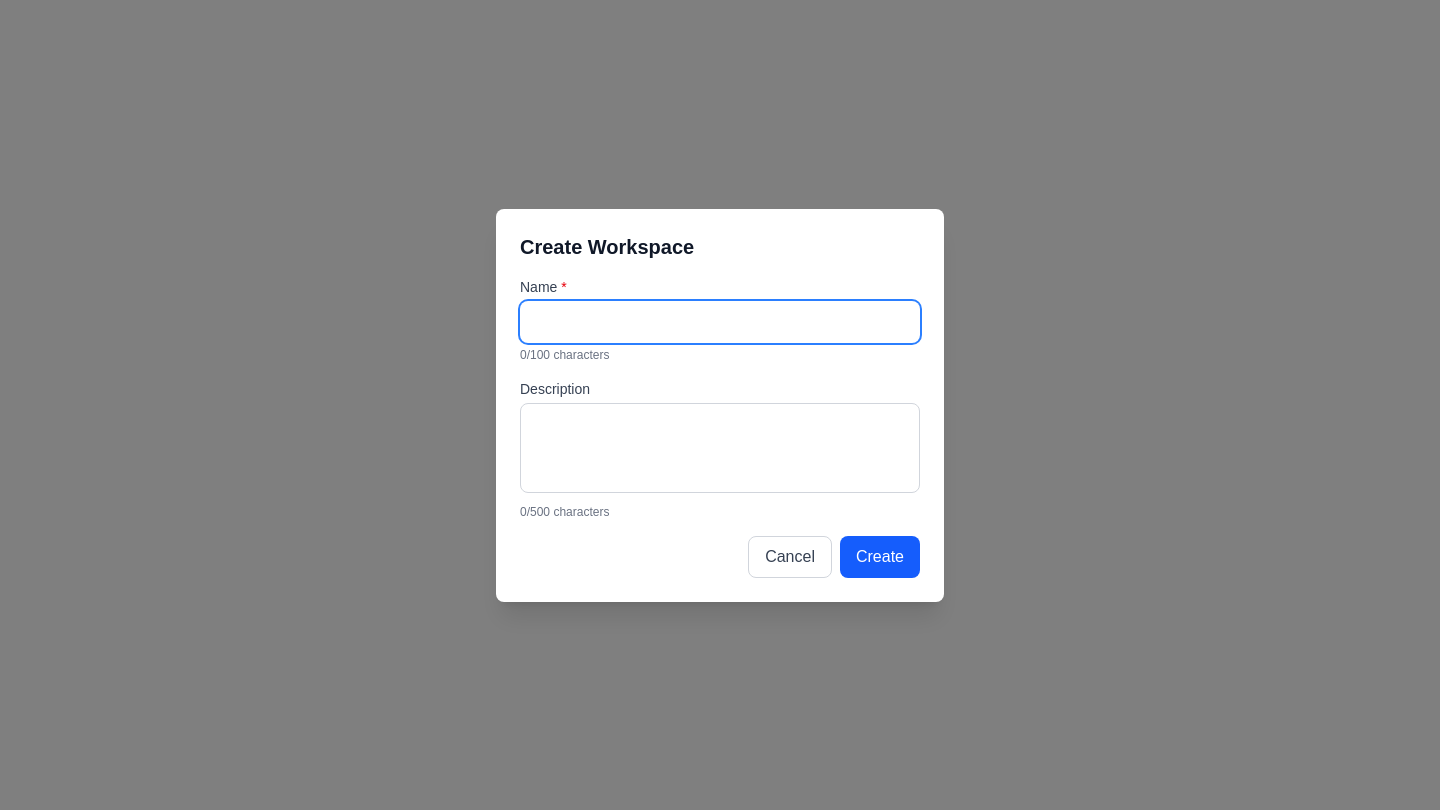
Test: WorkspaceCreateModal › Form Input › should update character counter for name
In the field labelled "Name *": (720, 322) [520,300,920,342], type "Test"
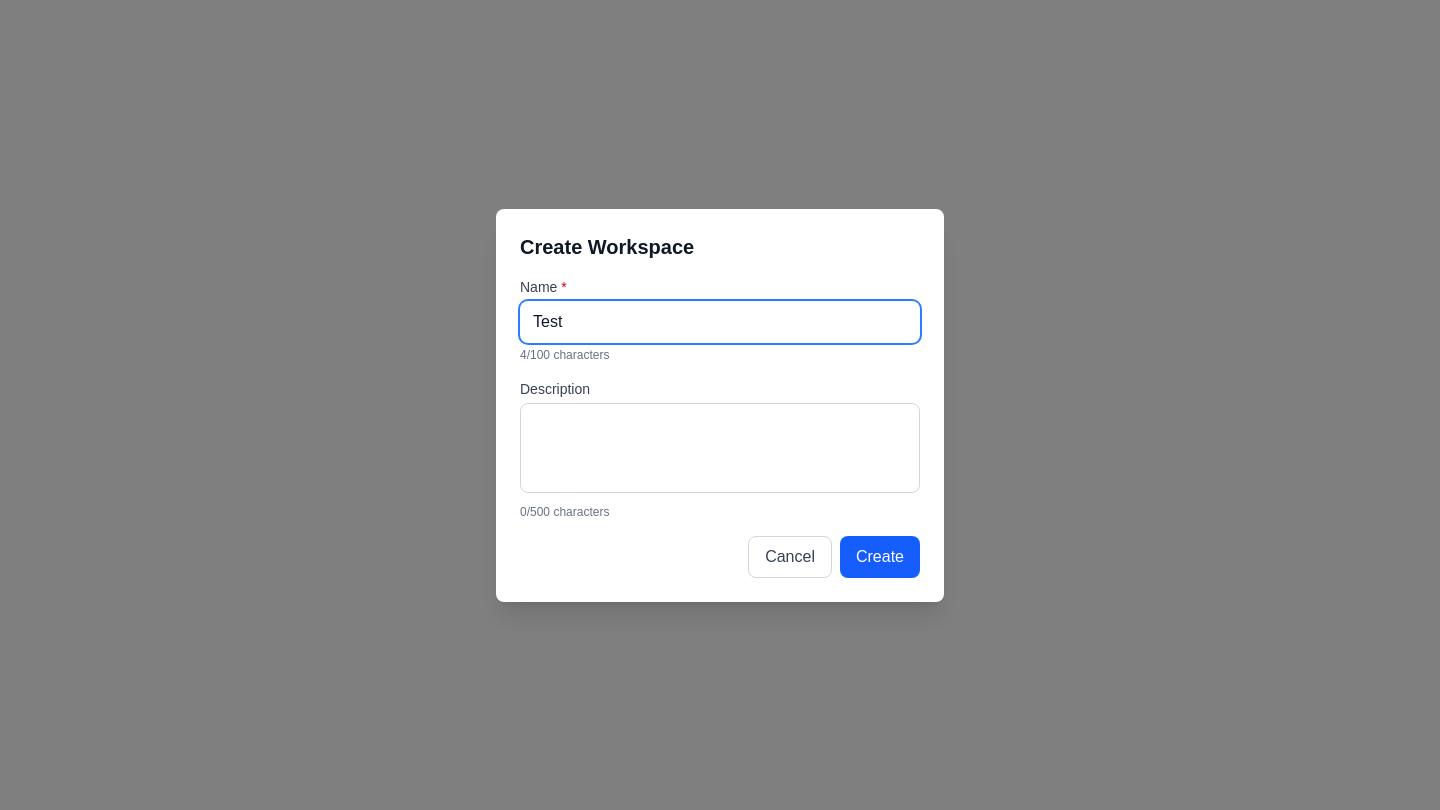
Expected: the text "4/100 characters" is shown, [520,348,609,362]
